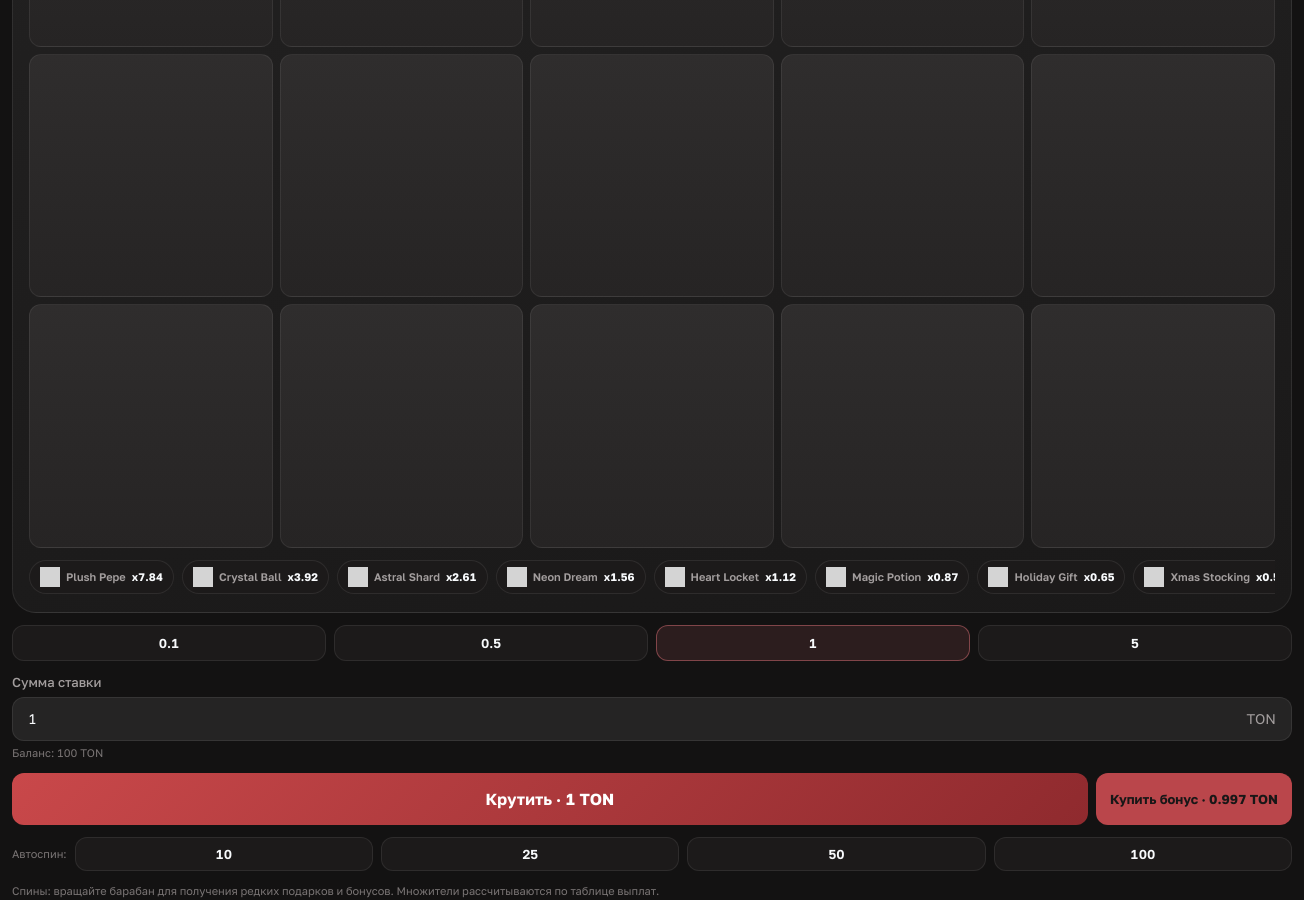
Test: SpinsScreen (4.9: колесо, бонус M2, покупка бонуса, автоспин) › покупка бонуса: списание цены 0.997, спин M2 со полной ставкой
(page scrolled)
Click the button "Купить бонус · 0.997 TON" at (1194, 799), box x1=1096 y1=773 x2=1292 y2=825
(page scrolled)
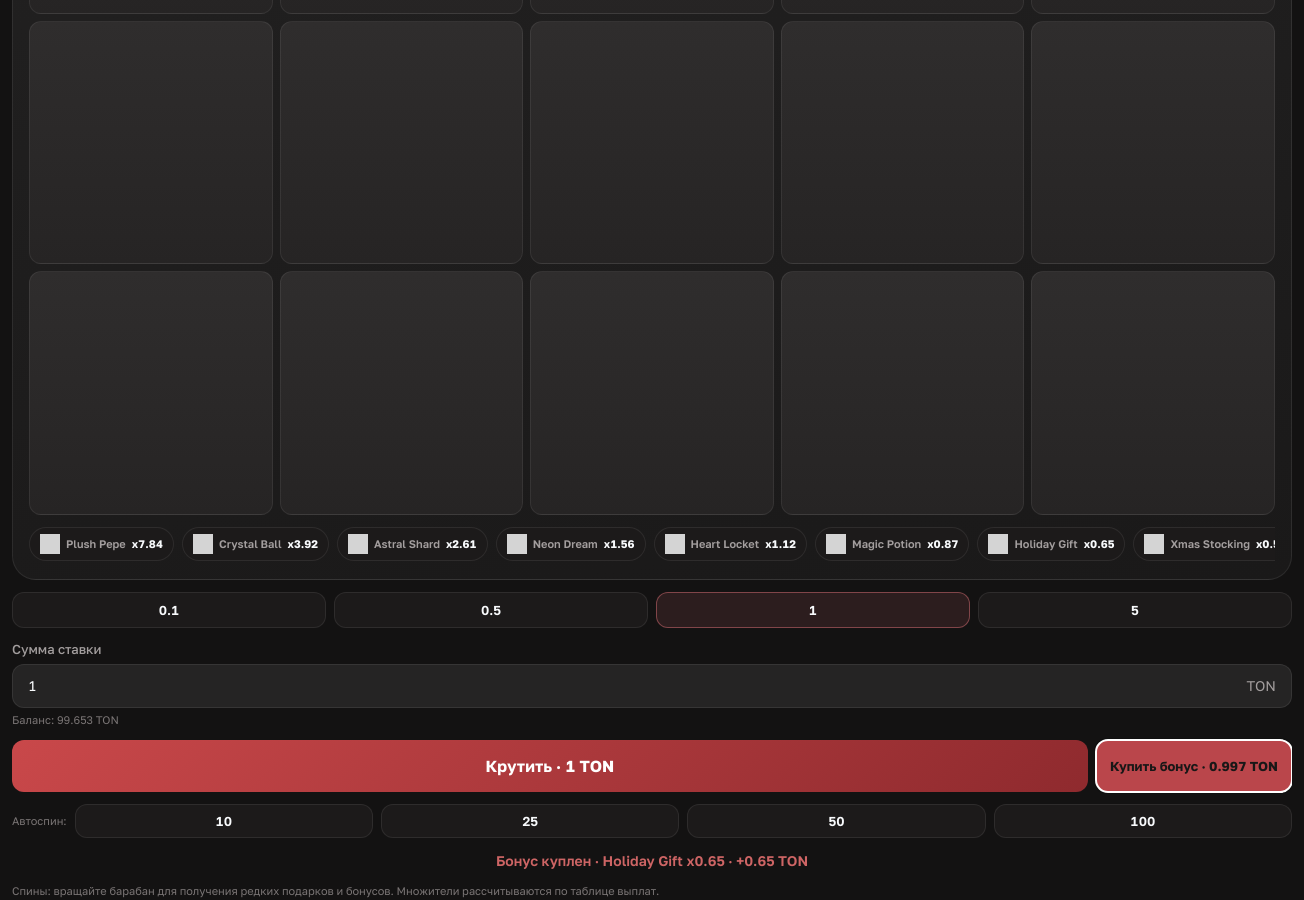
Check: the text "Бонус куплен · Holiday Gift x0.65 · +0.65 TON" is shown, box x1=496 y1=852 x2=808 y2=869
